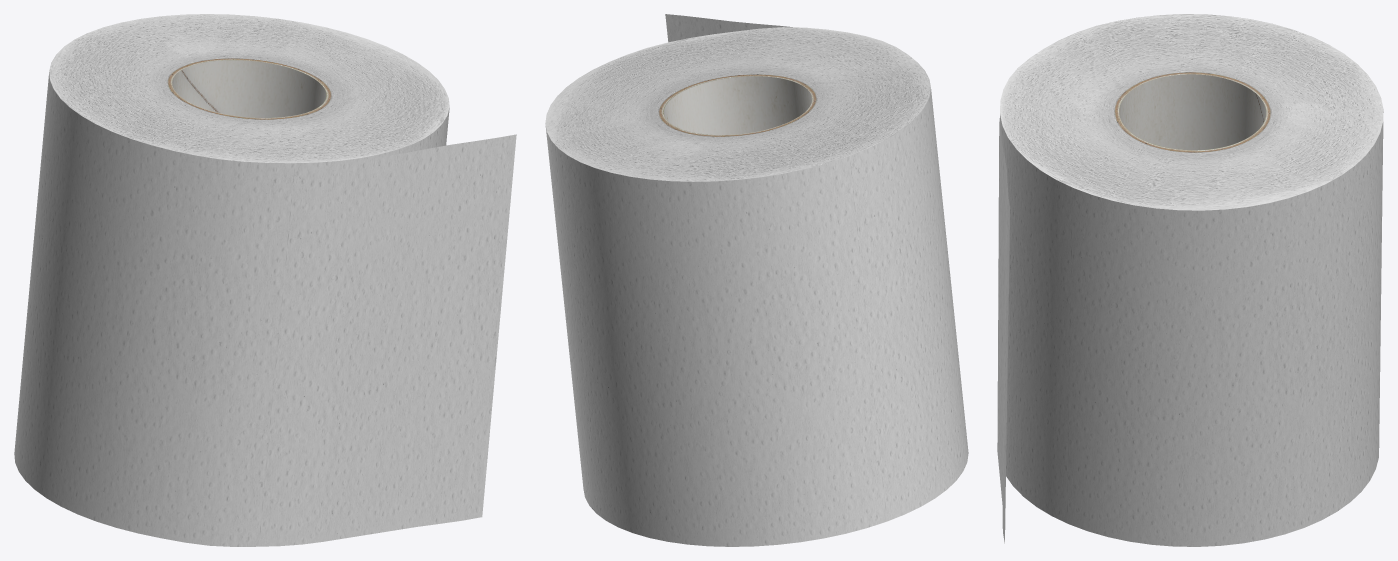
Rendered from paperv2.glb.
3 renders of one model, left to right at view 1: azimuth 30°, elevation 25°; view 2: azimuth 150°, elevation 25°; view 3: azimuth 270°, elevation 25°, orthographic. The views are drawn at different scales.
Parts seen in each view (by area): view 1: mpm_f01__Toilet_paper; view 2: mpm_f01__Toilet_paper; view 3: mpm_f01__Toilet_paper.
Part boxes in pixels (x1,y1,x2,y2): mpm_f01__Toilet_paper: [14, 14, 516, 546]; mpm_f01__Toilet_paper: [545, 14, 968, 546]; mpm_f01__Toilet_paper: [997, 14, 1383, 546].
Size of the model in its own units: 108 by 111 by 99.53.
Materials: 1 (1 with a texture image).
